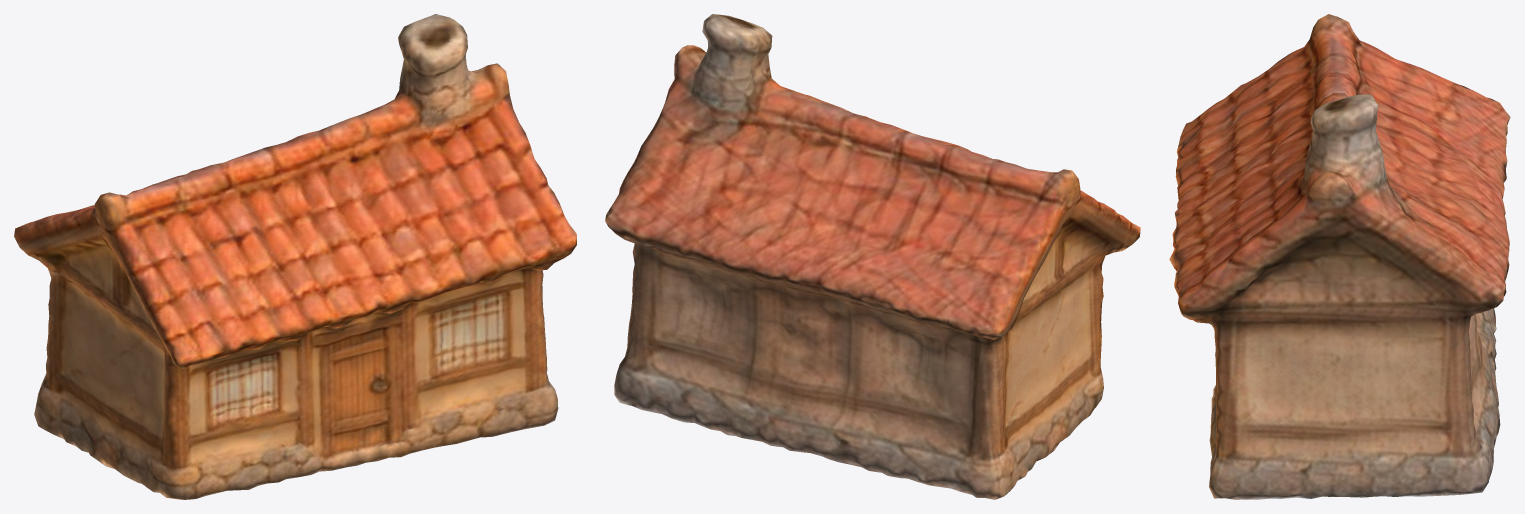
The model's file is home_b.glb.
3 renders of one model, left to right at view 1: azimuth 30°, elevation 25°; view 2: azimuth 150°, elevation 25°; view 3: azimuth 270°, elevation 25°, orthographic. The views are drawn at different scales.
Parts seen in each view (by area): view 1: world; view 2: world; view 3: world.
Part boxes in pixels (x1,y1,x2,y2): world: (14, 14, 576, 499); world: (605, 14, 1140, 499); world: (1169, 14, 1510, 499).
Size of the model in its own units: 3.42 by 2.9 by 2.37.
1 material, 1 textured.
